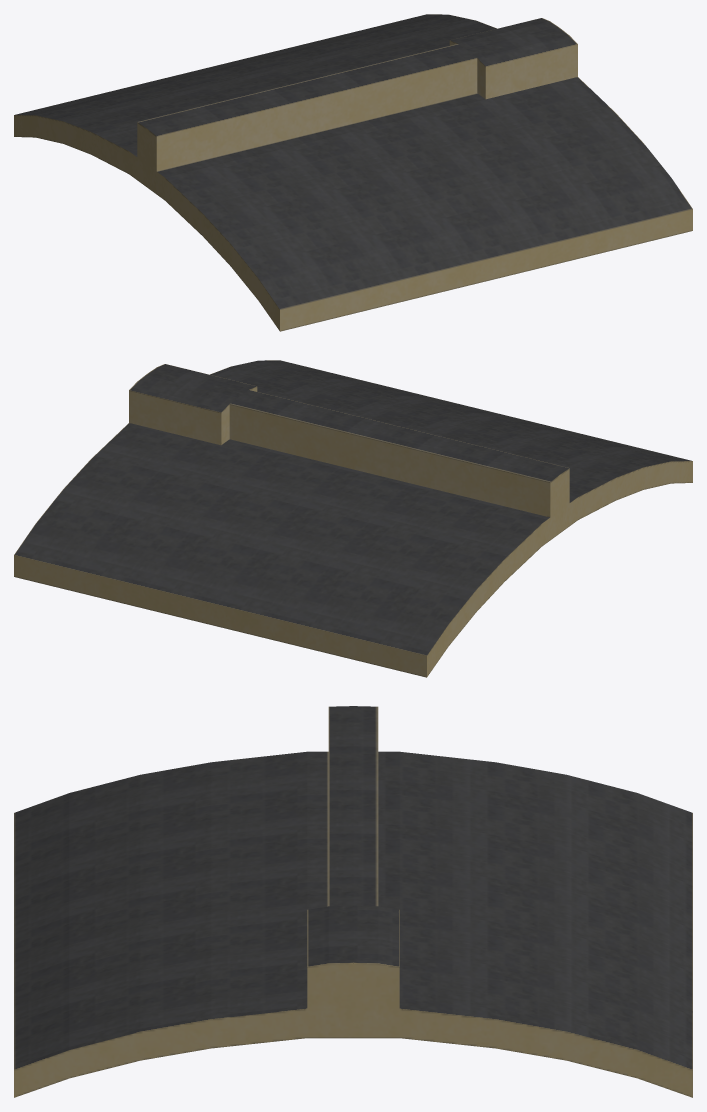
The model's file is roof.fbx.
3 views of the same model, one above another, from view 1: azimuth 30°, elevation 25°; view 2: azimuth 150°, elevation 25°; view 3: azimuth 270°, elevation 25° (orthographic). The views are drawn at different scales.
Visible parts, largest first — view 1: roof; view 2: roof; view 3: roof.
Part boxes in pixels (box(x1,y1,x2,y2)): roof: box(14, 14, 692, 331); roof: box(14, 360, 692, 677); roof: box(14, 706, 692, 1097).
Size of the model in its own units: 3970 by 971 by 4431.
